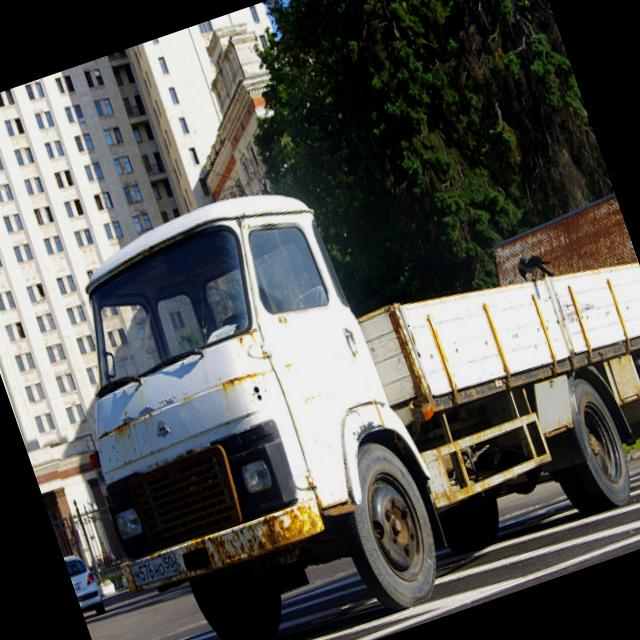Vehicle: (22, 75, 640, 640), (62, 549, 104, 617)
